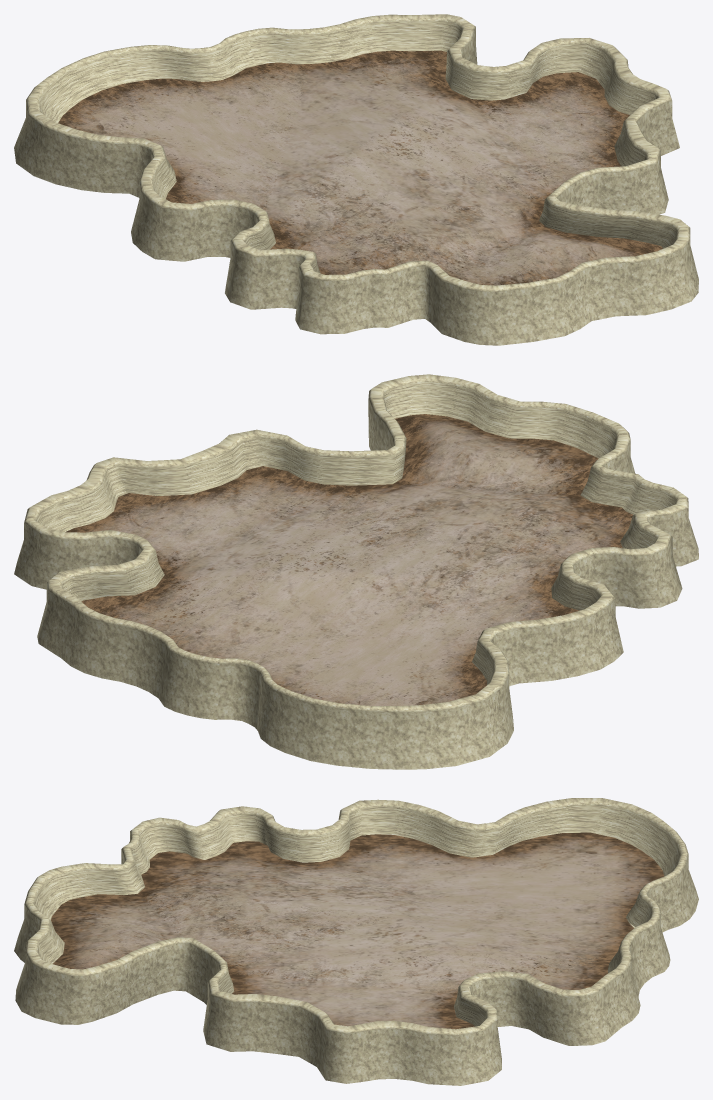
Rendered from Plates_Big_2.fbx.
3 views of the same model, one above another, from view 1: azimuth 30°, elevation 25°; view 2: azimuth 150°, elevation 25°; view 3: azimuth 270°, elevation 25° (orthographic). The views are drawn at different scales.
Parts seen in each view (by area): view 1: Plates_Big_2; view 2: Plates_Big_2; view 3: Plates_Big_2.
Boxes of the visible parts, x1,y1,x2,y2 form: Plates_Big_2: [14, 14, 698, 345]; Plates_Big_2: [14, 374, 698, 769]; Plates_Big_2: [14, 798, 698, 1085].
Size of the model in its own units: 26.04 by 2.45 by 30.94.
Materials: 2 (2 with a texture image).
